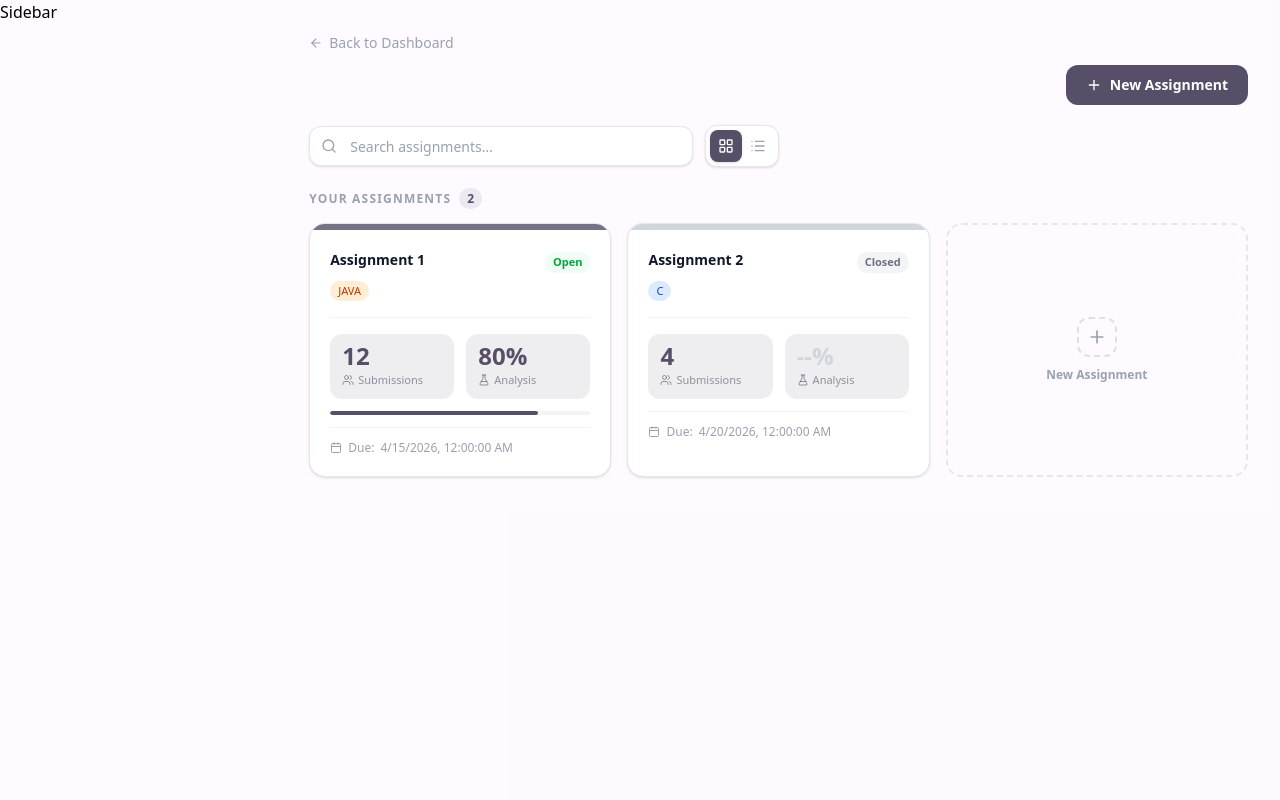
Test: CoursePage › opens the create assignment modal when New is clicked
Click the 1st button "New Assignment" at [1157, 85], box [1066,65,1248,105]
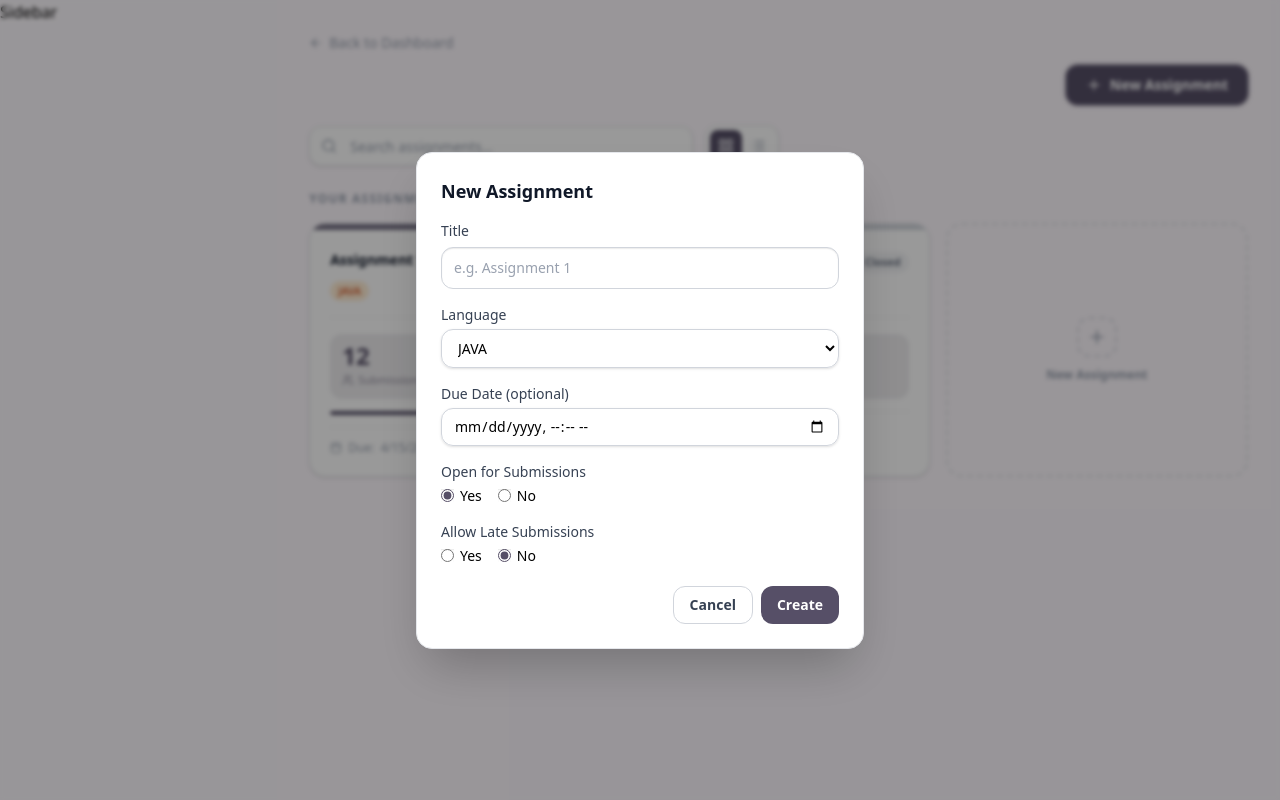
Check: the heading "New Assignment" is shown, box [441,178,593,202]
Check: the button "Create" is shown, box [761,586,839,624]
